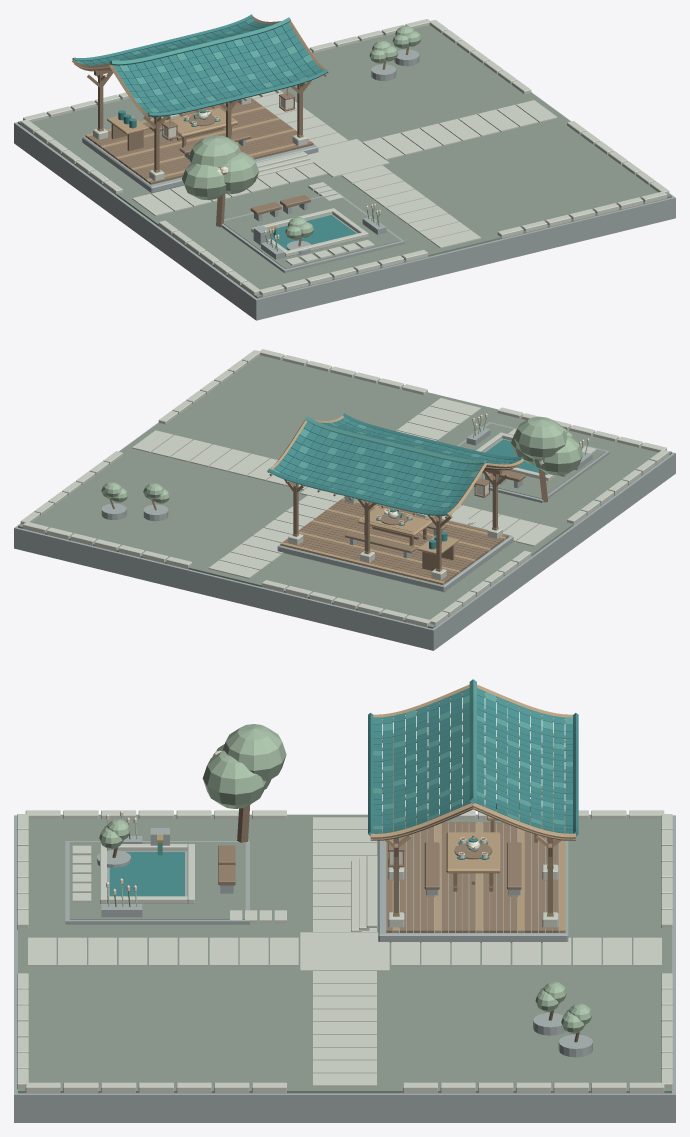
File: common_future-scene.glb
3 views of the same model, one above another, from view 1: azimuth 30°, elevation 25°; view 2: azimuth 150°, elevation 25°; view 3: azimuth 270°, elevation 25° (orthographic). The views are drawn at different scales.
Parts seen in each view (by area): view 1: runtime_Rain darkened earth, runtime_Pale courtyard limestone, runtime_Blue grey border stone, runtime_Deep teal ceramic, runtime_Rain washed cedar, runtime_Sage foliage, runtime_Cedar cut end, runtime_Glazed teal tile variation; view 2: runtime_Rain darkened earth, runtime_Pale courtyard limestone, runtime_Blue grey border stone, runtime_Deep teal ceramic, runtime_Rain washed cedar, runtime_Cedar cut end, runtime_Sage foliage, runtime_Glazed teal tile variation; view 3: runtime_Rain darkened earth, runtime_Pale courtyard limestone, runtime_Blue grey border stone, runtime_Deep teal ceramic, runtime_Rain washed cedar, runtime_Sage foliage, runtime_Cedar cut end, runtime_Glazed teal tile variation.
Boxes of the visible parts, x1,y1,x2,y2 form: runtime_Rain darkened earth: (18, 25, 671, 298); runtime_Pale courtyard limestone: (20, 19, 669, 296); runtime_Blue grey border stone: (14, 49, 675, 320); runtime_Deep teal ceramic: (72, 14, 356, 250); runtime_Rain washed cedar: (74, 46, 409, 246); runtime_Sage foliage: (182, 25, 421, 251); runtime_Cedar cut end: (72, 16, 328, 182); runtime_Glazed teal tile variation: (76, 17, 312, 236); runtime_Rain darkened earth: (18, 355, 671, 628); runtime_Pale courtyard limestone: (20, 349, 669, 627); runtime_Blue grey border stone: (14, 422, 675, 650); runtime_Deep teal ceramic: (267, 413, 547, 549); runtime_Rain washed cedar: (109, 462, 547, 583); runtime_Cedar cut end: (267, 415, 523, 584); runtime_Sage foliage: (101, 416, 587, 503); runtime_Glazed teal tile variation: (272, 416, 509, 515); runtime_Rain darkened earth: (18, 814, 671, 1093); runtime_Pale courtyard limestone: (17, 810, 672, 1092); runtime_Blue grey border stone: (14, 815, 675, 1122); runtime_Deep teal ceramic: (109, 688, 578, 896); runtime_Rain washed cedar: (112, 693, 579, 1042); runtime_Sage foliage: (99, 724, 592, 1033); runtime_Cedar cut end: (370, 684, 575, 932); runtime_Glazed teal tile variation: (157, 679, 572, 855).
Size of the model in its own units: 25.8 by 7.72 by 25.8.
